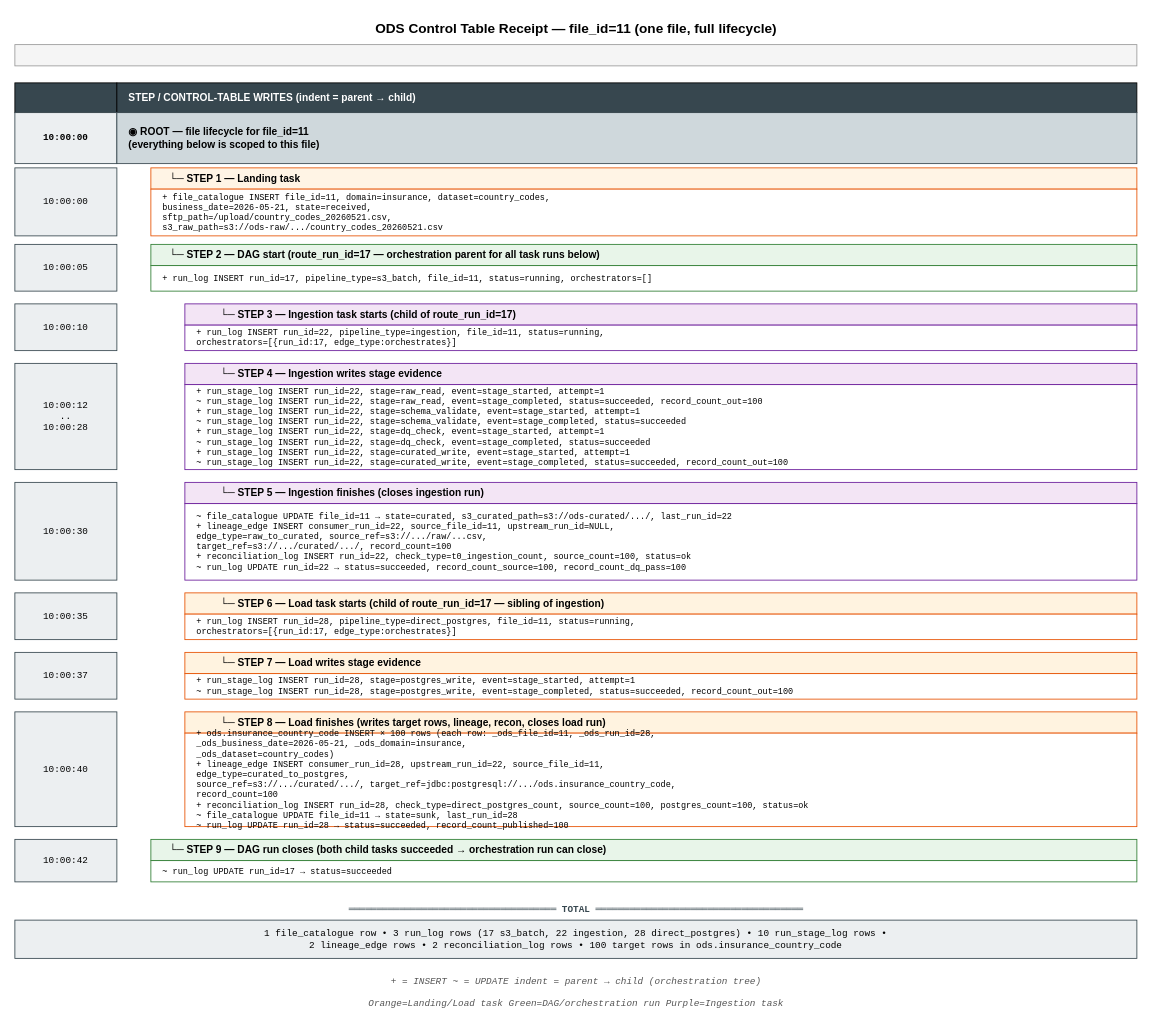
Some shapes in this 1152 by 1028 pixel diagram are drawn without their labels. Here are the shapes that lost their labels. From the top down, the centre of each, then its label:
At point (575, 55): "file_id=11 route_run_id=17 ingestion_run_id=22 pg_write_run_id=28".
At point (65, 97): "TIME".
